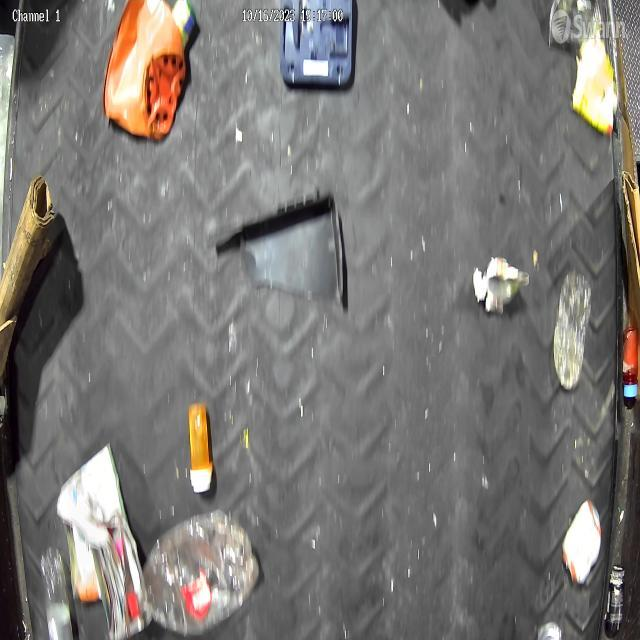can: (56, 439, 128, 612), (91, 508, 151, 640), (560, 498, 604, 584), (483, 255, 532, 307)
plastic_bottle: (128, 504, 262, 636), (552, 264, 592, 392), (39, 544, 74, 640)
